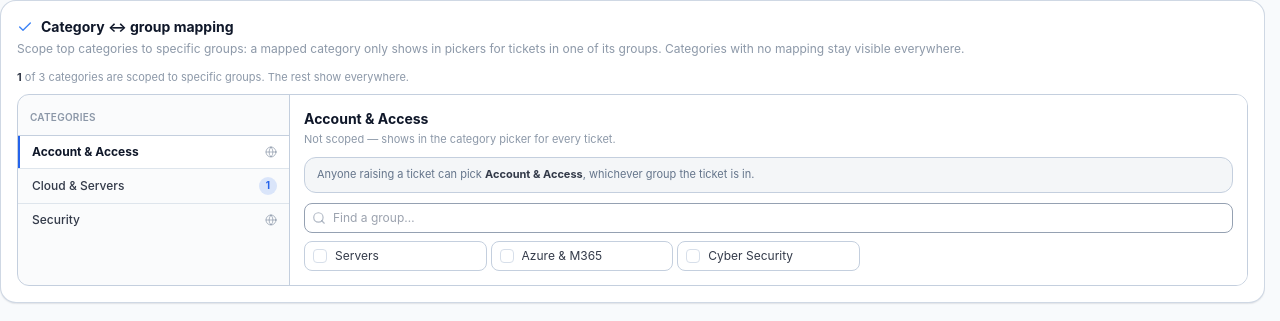
Test: the explainer — the reason this layout was chosen › a scoped category names the groups it is restricted to
Expected: the list with test id "cgm-category-list" is shown, [18,136,289,285]
Click the text "Cloud & Servers": click(78, 185) [32,178,124,192]
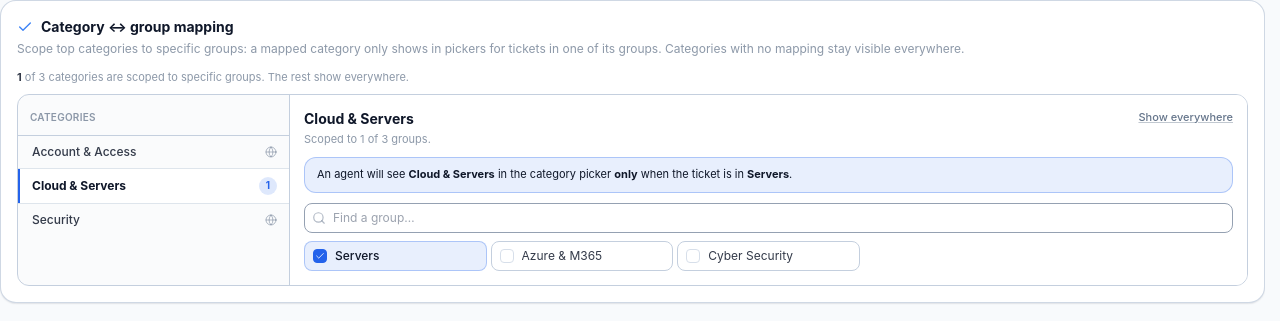
Expected: the element with test id "cgm-explainer" shows "An agent will see Cloud & Servers in the category picker only when the ticket is in Servers.", [304,157,1233,193]
